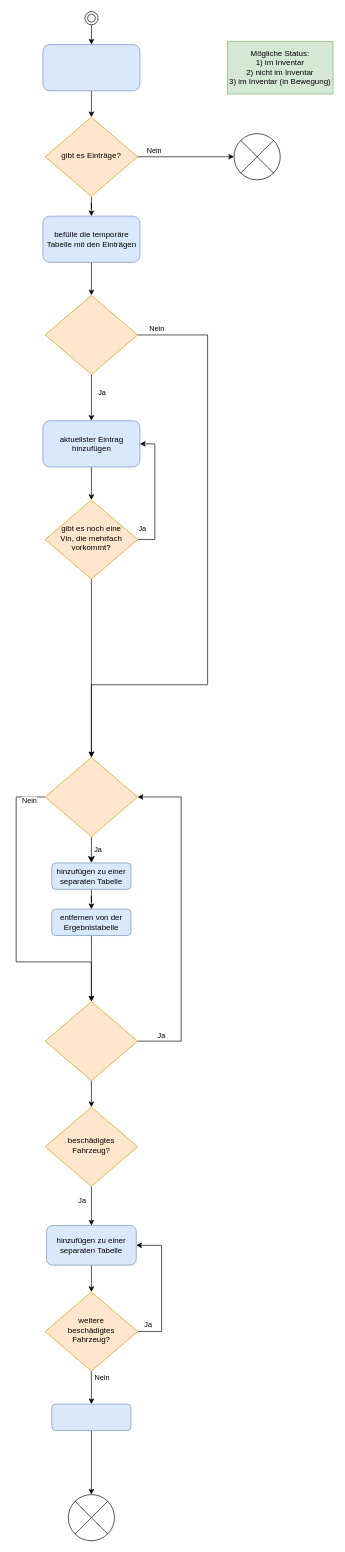
This 345x1552 diagram has some shape labels left out. The box of each missing label's shape, as (x1, y1, x2, y2) in pixels:
Ausgabe der Tabelle: (51, 1403, 131, 1431)
Eintrag auf der Liste mit "nicht im Inventar": (45, 757, 138, 837)
gibt es noch weitere Einträge?: (45, 1001, 138, 1081)
hole die Einträge von heute: (42, 44, 140, 91)
Vin, die mehrmals auftreten?: (45, 295, 138, 375)
